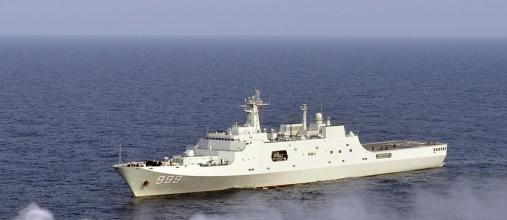warship: (111, 90, 449, 200)
